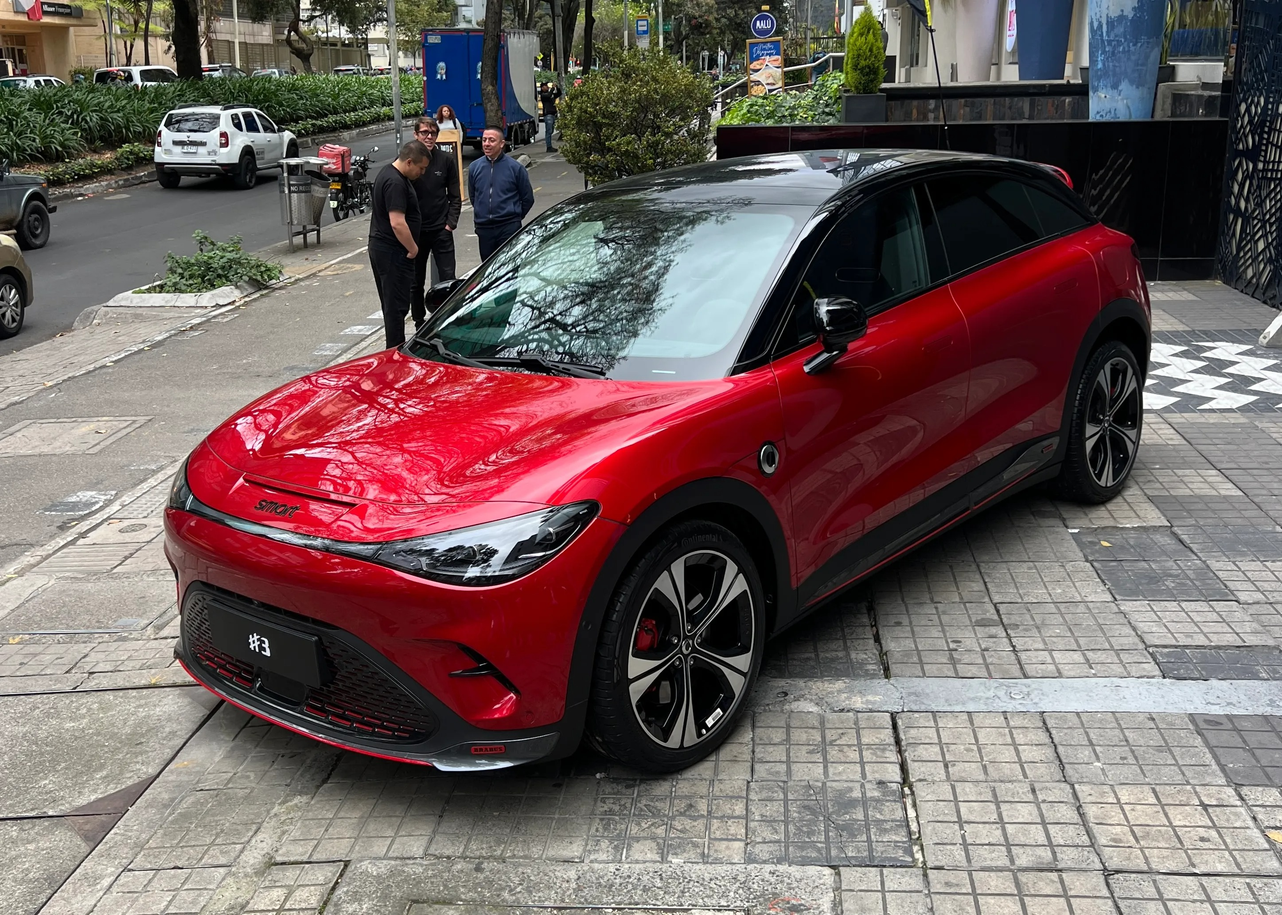car: (139, 143, 1166, 765), (411, 30, 542, 147), (151, 106, 282, 188), (192, 115, 316, 184), (308, 126, 424, 192), (290, 133, 374, 207)
